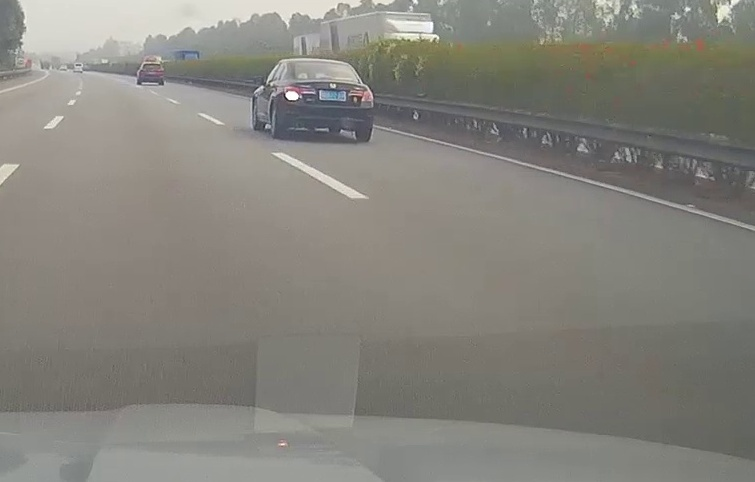L_light: (284, 86, 315, 100)
R_light: (348, 89, 373, 103)
T_light: (317, 62, 333, 66)
day-left: (279, 58, 374, 142)
